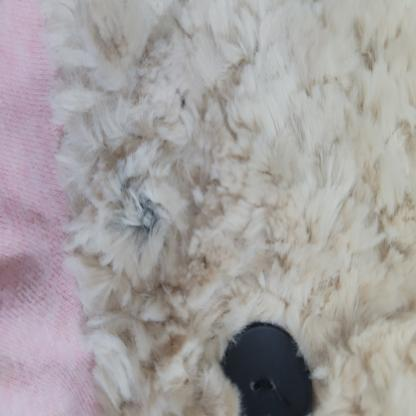spot: (131, 188, 161, 252)
